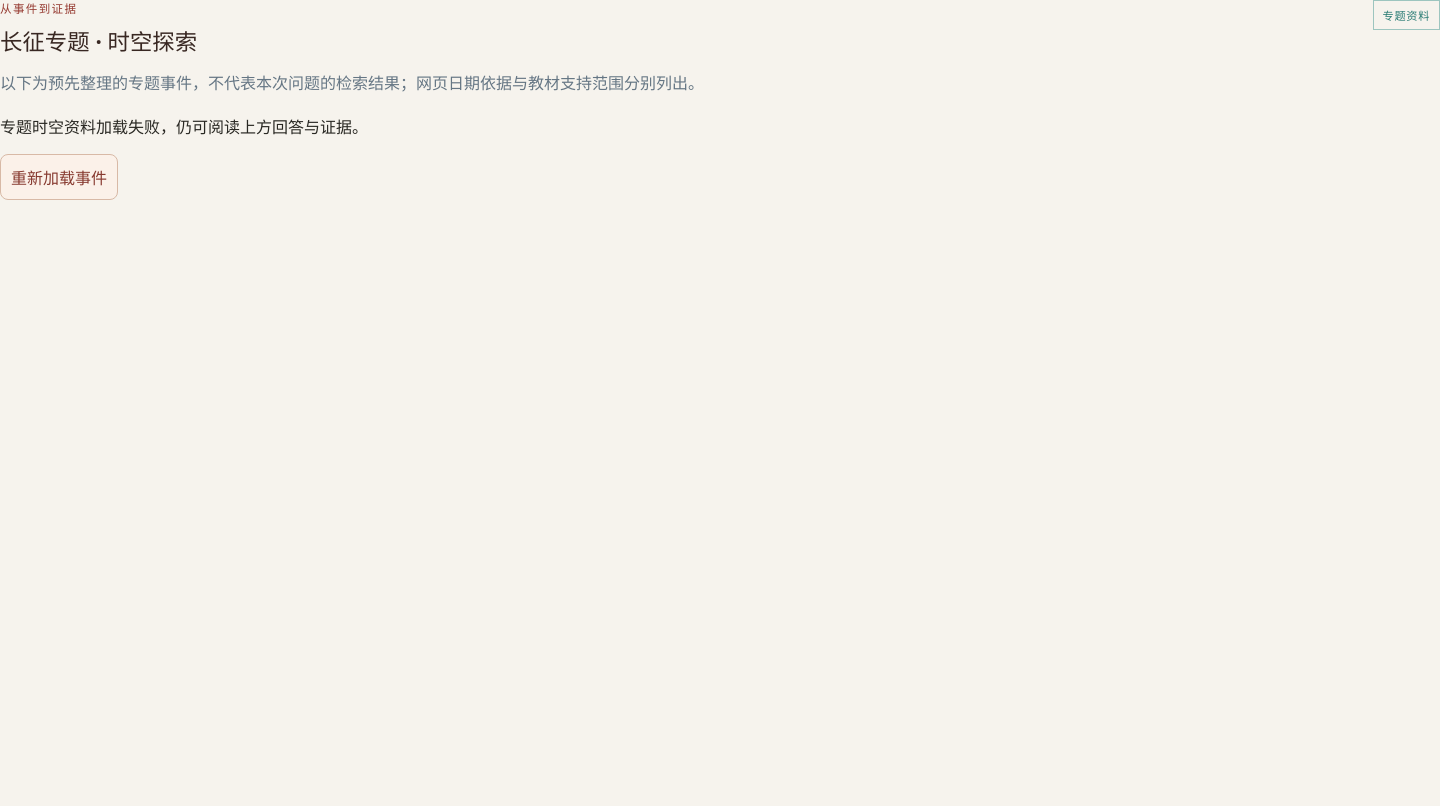
Test: TopicTimelineView › retries failed local data loading and removes the map on unmount
This screenshot has width=1440, height=806.
Expected: the message shows "仍可阅读上方回答与证据", x1=0 y1=116 x2=368 y2=138
Click the button "重新加载事件" at (59, 177), box x1=0 y1=154 x2=118 y2=200
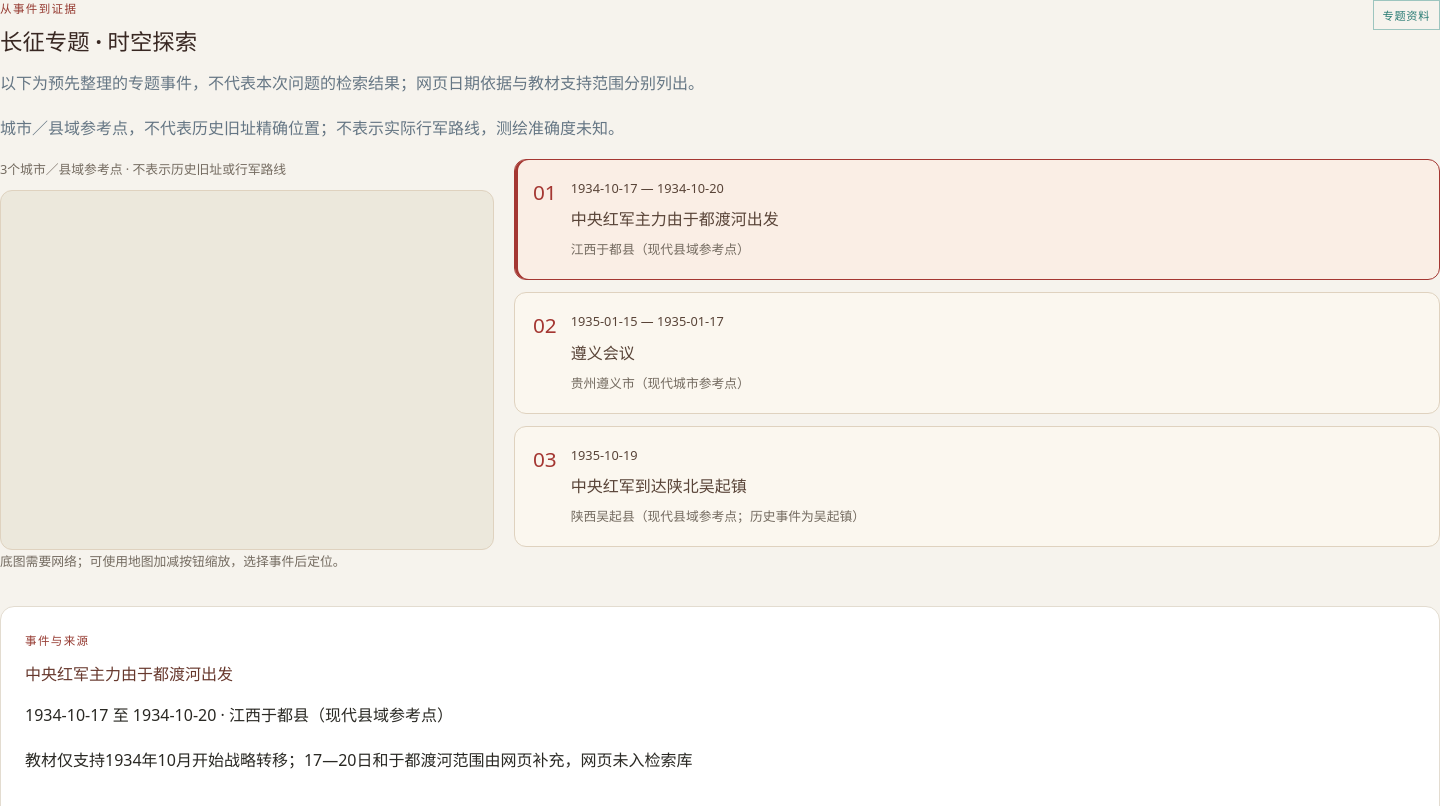
Expected: the button "02 1935-01-15 — 1935-01-17 遵义会议 贵州遵义市（现代城市参考点）" is shown, x1=514 y1=292 x2=1439 y2=414
